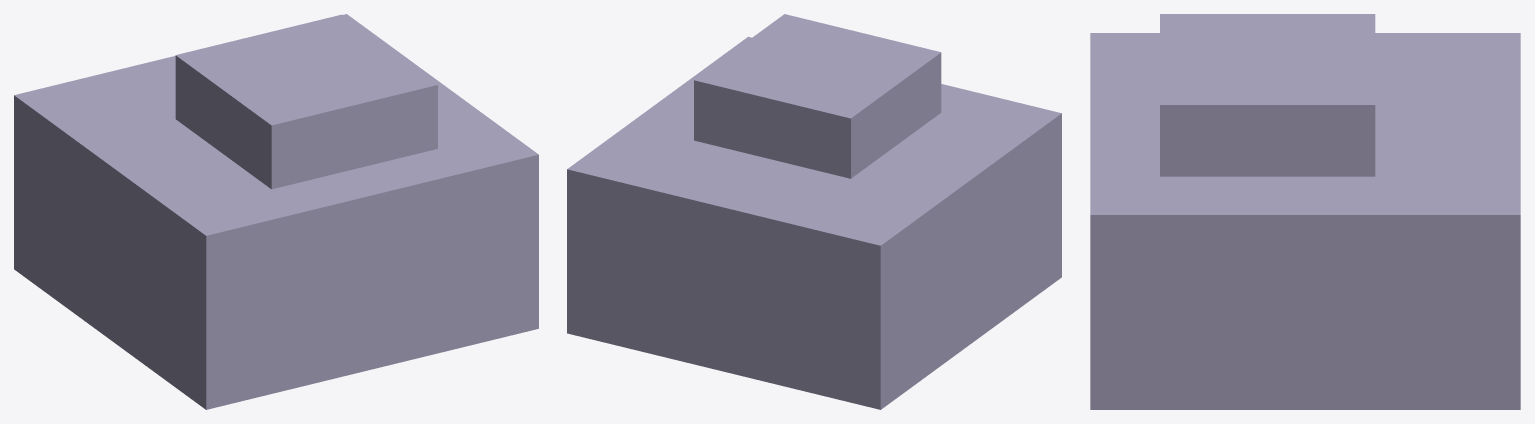
Rendered from boulder_1x1_wide_2.fbx.
3 views of the same model, side by side, from view 1: azimuth 30°, elevation 25°; view 2: azimuth 150°, elevation 25°; view 3: azimuth 270°, elevation 25° (orthographic). The views are drawn at different scales.
Parts seen in each view (by area): view 1: Cube.071; view 2: Cube.071; view 3: Cube.071.
Part boxes in pixels (x1=…): Cube.071: x1=14, y1=14, x2=538, y2=409; Cube.071: x1=567, y1=14, x2=1061, y2=409; Cube.071: x1=1090, y1=14, x2=1520, y2=409.
Size of the model in its own units: 200 by 137 by 200.
Materials: 1 (1 with a texture image).
